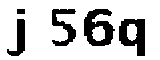5: (47, 5, 77, 48)
6: (82, 8, 115, 48)
j: (3, 6, 30, 57)
q: (116, 17, 151, 60)
